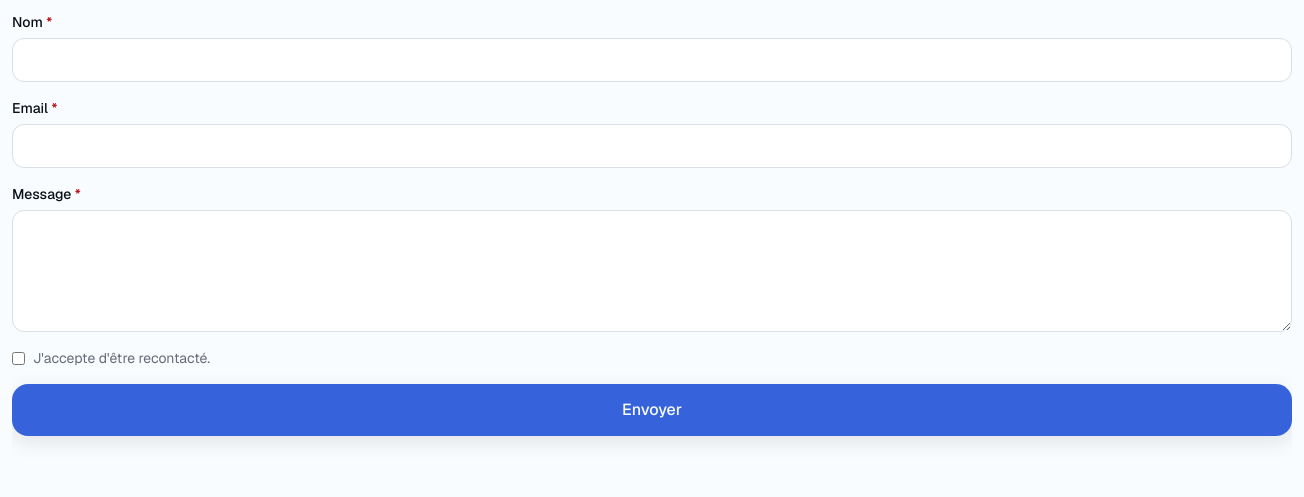
Test: ContactForm › shows a server error alert when the delivery fails
The width and height of the screenshot is (1304, 497).
In the field labelled "Nom *": [652, 60] box [12, 38, 1292, 82], type "Marie Martin"
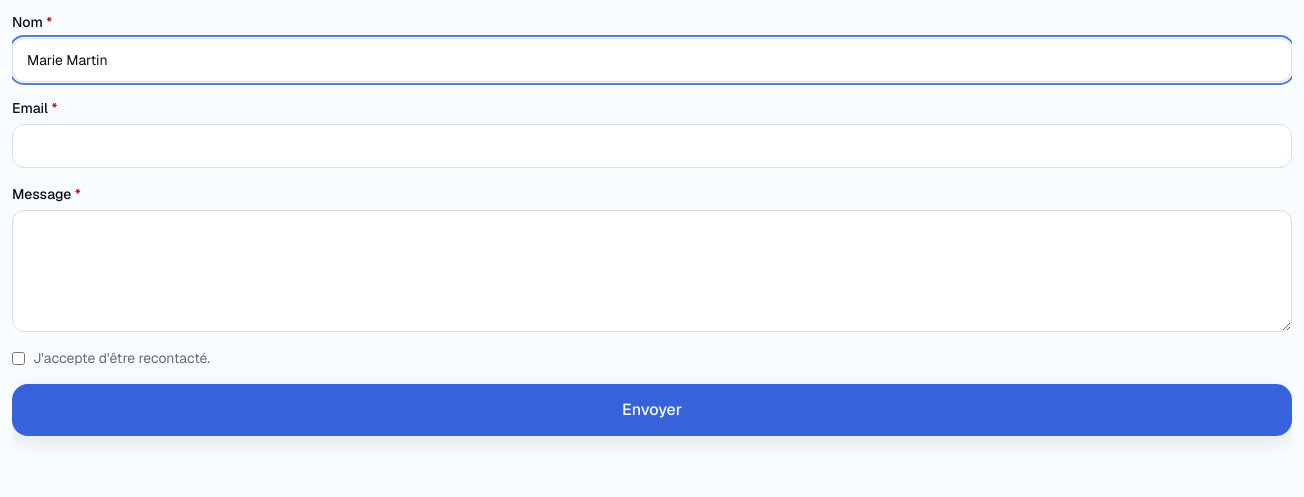
In the field labelled "Email *": [652, 146] box [12, 124, 1292, 168], type "marie@example.com"
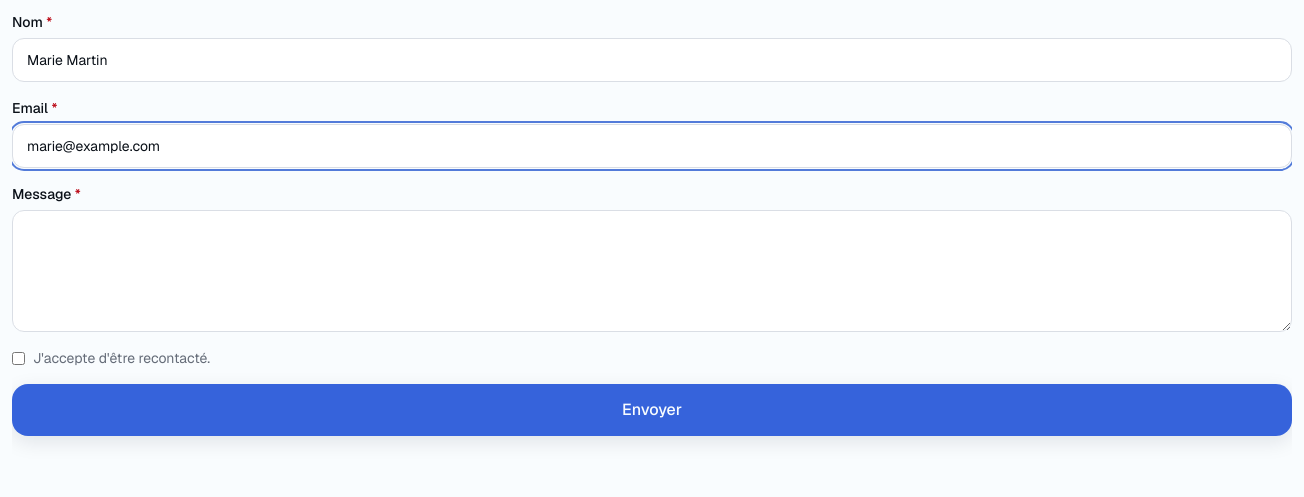
In the text box labelled "Message *": [652, 271] box [12, 210, 1292, 332], type "Un message suffisamment long pour valider."
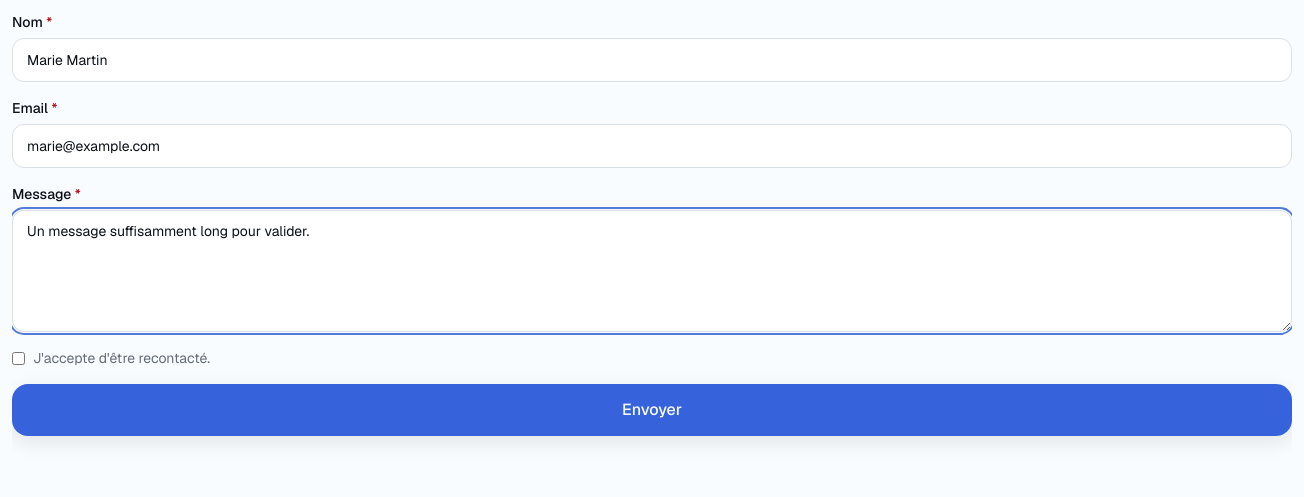
Click the checkbox: [18, 358] box [12, 352, 25, 365]
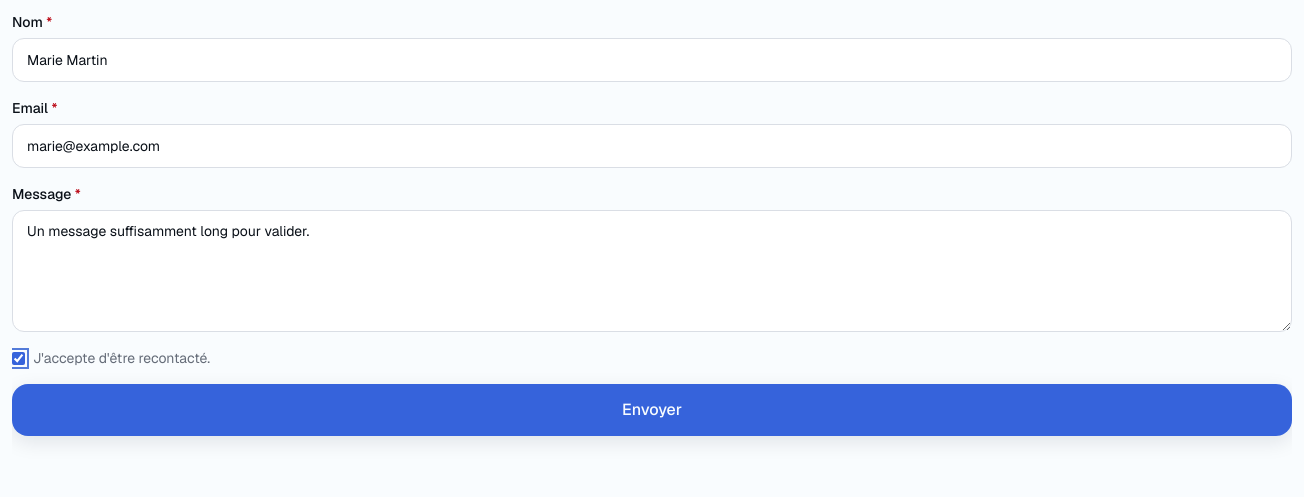
Click the button "Envoyer": [652, 410] box [12, 384, 1292, 436]
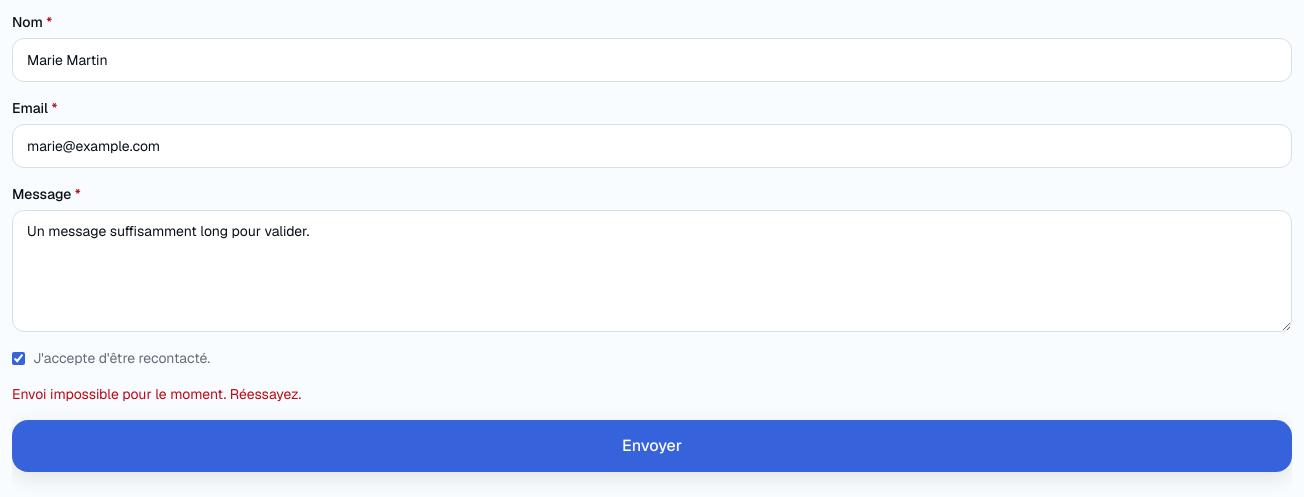
Check: the message shows "Envoi impossible", box [12, 385, 301, 403]
